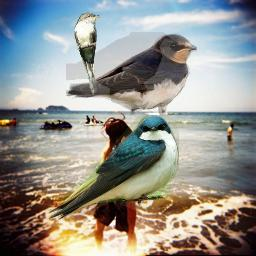Cuckoo: (74, 12, 101, 95)
Swallow: (45, 115, 179, 221), (66, 32, 197, 116)
